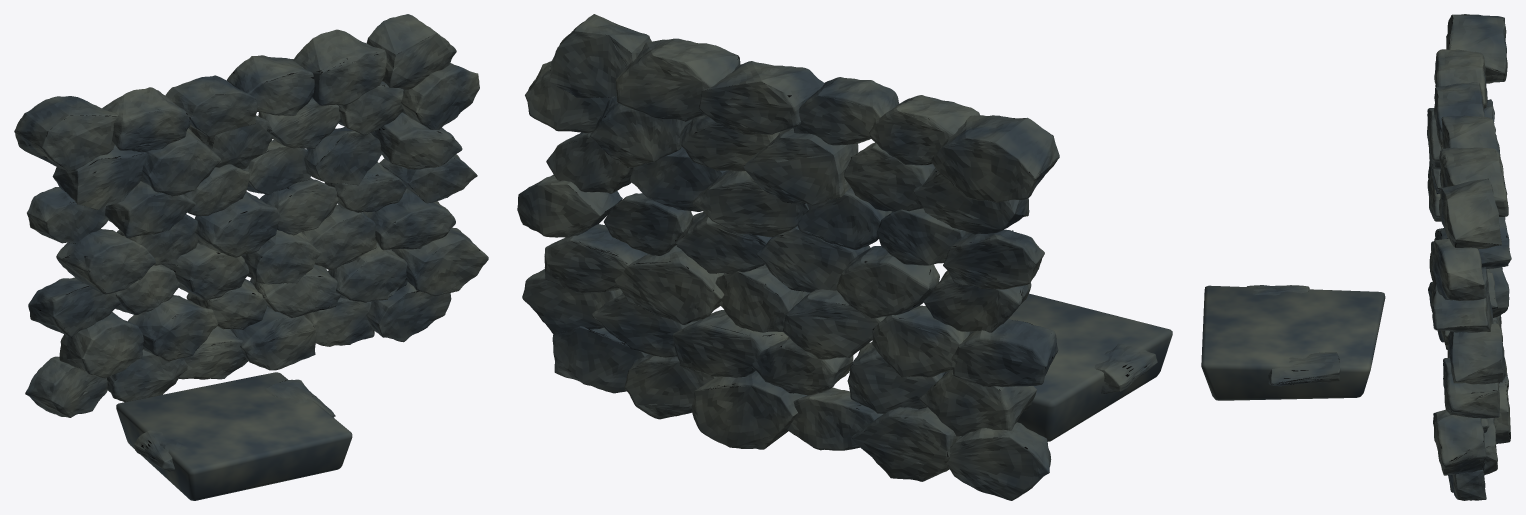
File: IbexCliff.fbx
3 renders of one model, left to right at view 1: azimuth 30°, elevation 25°; view 2: azimuth 150°, elevation 25°; view 3: azimuth 270°, elevation 25°, orthographic. The views are drawn at different scales.
Parts seen in each view (by area): view 1: LedgePlatform, CliffStone_38, CliffStone_42, CliffStone_20, CliffStone_43, CliffStone_39, CliffStone_13, CliffStone_08, CliffStone_41, CliffStone_09, CliffStone_40, CliffStone_32 (+33 smaller); view 2: LedgePlatform, CliffStone_38, CliffStone_42, CliffStone_41, CliffStone_05, CliffStone_34, CliffStone_02, CliffStone_14, CliffStone_18, CliffStone_43, CliffStone_03, CliffStone_21 (+32 smaller); view 3: LedgePlatform, CliffStone_43, CliffStone_25, CliffStone_38, CliffStone_13, CliffStone_37, CliffStone_42, CliffStone_31, CliffStone_19, CliffStone_39, CliffStone_01, CliffStone_40 (+9 smaller).
Part boxes in pixels (x1,y1,x2,y2): LedgePlatform: [116, 372, 352, 500]; CliffStone_38: [14, 96, 118, 170]; CliffStone_42: [292, 29, 386, 105]; CliffStone_20: [56, 229, 155, 294]; CliffStone_43: [366, 14, 456, 89]; CliffStone_39: [102, 87, 190, 152]; CliffStone_13: [392, 227, 488, 296]; CliffStone_08: [59, 311, 143, 378]; CliffStone_41: [227, 55, 314, 115]; CliffStone_09: [128, 295, 217, 361]; CliffStone_40: [165, 75, 257, 136]; CliffStone_32: [52, 145, 147, 209]; LedgePlatform: [1008, 293, 1172, 441]; CliffStone_38: [931, 115, 1059, 202]; CliffStone_42: [615, 38, 740, 121]; CliffStone_41: [698, 61, 824, 134]; CliffStone_05: [691, 371, 806, 449]; CliffStone_34: [743, 128, 858, 205]; CliffStone_02: [946, 422, 1051, 500]; CliffStone_14: [951, 319, 1058, 387]; CliffStone_18: [615, 245, 725, 324]; CliffStone_43: [549, 14, 651, 98]; CliffStone_03: [851, 407, 961, 481]; CliffStone_21: [836, 246, 939, 318]; LedgePlatform: [1201, 285, 1385, 400]; CliffStone_43: [1439, 178, 1501, 249]; CliffStone_25: [1448, 323, 1506, 384]; CliffStone_38: [1446, 14, 1507, 83]; CliffStone_13: [1433, 409, 1486, 475]; CliffStone_37: [1430, 239, 1485, 300]; CliffStone_42: [1439, 147, 1508, 216]; CliffStone_31: [1431, 267, 1493, 332]; CliffStone_19: [1443, 358, 1499, 418]; CliffStone_39: [1434, 49, 1487, 108]; CliffStone_01: [1268, 352, 1340, 386]; CliffStone_40: [1434, 82, 1484, 149].
Size of the model in its own units: 434 by 289 by 258.
Materials: 1 (1 with a texture image).
